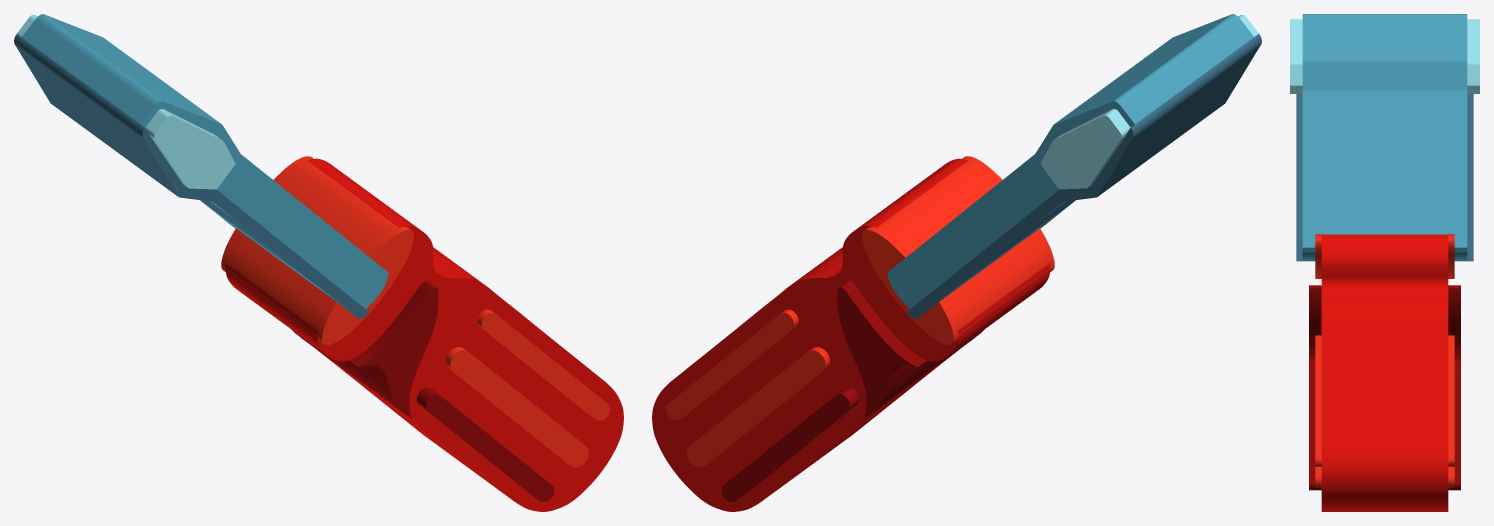
The picture shows the model from 3 angles, left to right: view 1: azimuth 30°, elevation 25°; view 2: azimuth 150°, elevation 25°; view 3: azimuth 270°, elevation 25°; orthographic projection. The views are drawn at different scales.
Visible parts, largest first — view 1: U+1FA9B_layer00_obj00, U+1FA9B_layer03_obj00, U+1FA9B_layer01_obj00, U+1FA9B_layer04_obj00, U+1FA9B_layer02_obj00, U+1FA9B_layer05_obj00, U+1FA9B_layer01_obj01, U+1FA9B_layer02_obj01, U+1FA9B_layer01_obj02; view 2: U+1FA9B_layer00_obj00, U+1FA9B_layer03_obj00, U+1FA9B_layer01_obj00, U+1FA9B_layer04_obj00, U+1FA9B_layer02_obj00, U+1FA9B_layer05_obj00, U+1FA9B_layer01_obj01, U+1FA9B_layer02_obj01, U+1FA9B_layer01_obj02; view 3: U+1FA9B_layer03_obj00, U+1FA9B_layer00_obj00, U+1FA9B_layer04_obj00, U+1FA9B_layer05_obj00, U+1FA9B_layer02_obj01, U+1FA9B_layer01_obj02, U+1FA9B_layer02_obj00, U+1FA9B_layer01_obj00, U+1FA9B_layer01_obj01.
Boxes of the visible parts, x1,y1,x2,y2 form: U+1FA9B_layer00_obj00: (225, 158, 623, 511); U+1FA9B_layer03_obj00: (22, 14, 388, 308); U+1FA9B_layer01_obj00: (221, 156, 413, 344); U+1FA9B_layer04_obj00: (14, 34, 369, 319); U+1FA9B_layer02_obj00: (292, 280, 438, 418); U+1FA9B_layer05_obj00: (17, 15, 235, 189); U+1FA9B_layer01_obj01: (446, 347, 588, 467); U+1FA9B_layer02_obj01: (416, 387, 554, 501); U+1FA9B_layer01_obj02: (477, 309, 610, 420); U+1FA9B_layer00_obj00: (652, 158, 1050, 511); U+1FA9B_layer03_obj00: (887, 14, 1253, 308); U+1FA9B_layer01_obj00: (862, 156, 1054, 344); U+1FA9B_layer04_obj00: (906, 34, 1261, 319); U+1FA9B_layer02_obj00: (837, 280, 983, 418); U+1FA9B_layer05_obj00: (1040, 15, 1258, 189); U+1FA9B_layer01_obj01: (687, 347, 829, 467); U+1FA9B_layer02_obj01: (721, 387, 859, 501); U+1FA9B_layer01_obj02: (665, 309, 798, 420); U+1FA9B_layer03_obj00: (1302, 14, 1467, 261); U+1FA9B_layer00_obj00: (1321, 235, 1448, 511); U+1FA9B_layer04_obj00: (1296, 94, 1473, 261); U+1FA9B_layer05_obj00: (1290, 19, 1479, 93); U+1FA9B_layer02_obj01: (1309, 358, 1460, 490); U+1FA9B_layer01_obj02: (1315, 335, 1454, 466); U+1FA9B_layer02_obj00: (1309, 285, 1460, 358); U+1FA9B_layer01_obj00: (1315, 234, 1454, 278); U+1FA9B_layer01_obj01: (1315, 467, 1454, 487).
Size of the model in its own units: 0.3146 by 0.3117 by 0.15.
